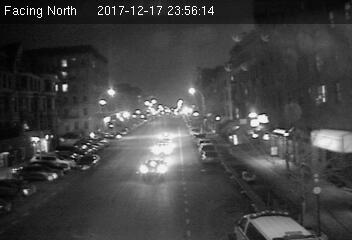car: (139, 158, 170, 182), (75, 153, 103, 171), (151, 143, 174, 156), (199, 151, 219, 164)
police: (229, 209, 317, 240)
